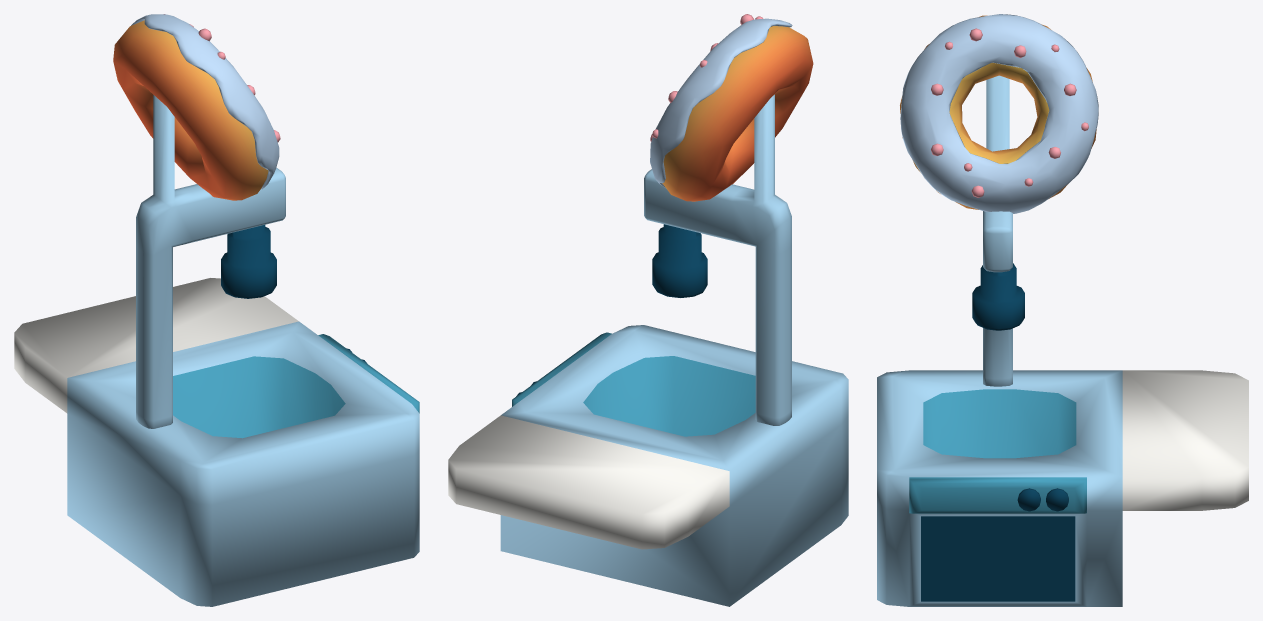
File: Donut-Machine.fbx
3 renders of one model, left to right at view 1: azimuth 30°, elevation 25°; view 2: azimuth 150°, elevation 25°; view 3: azimuth 270°, elevation 25°, orthographic. The views are drawn at different scales.
Parts seen in each view (by area): view 1: Donut-Machine; view 2: Donut-Machine; view 3: Donut-Machine.
Part boxes in pixels (x1,y1,x2,y2): Donut-Machine: [14, 14, 419, 606]; Donut-Machine: [448, 14, 848, 606]; Donut-Machine: [877, 14, 1248, 606].
Bounding box in the file's own units: 283 × 579 × 390.
